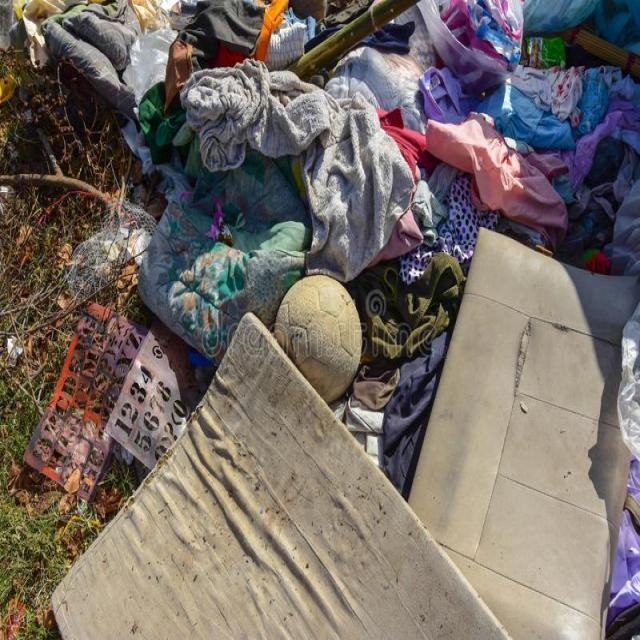clothes: (157, 45, 625, 234)
